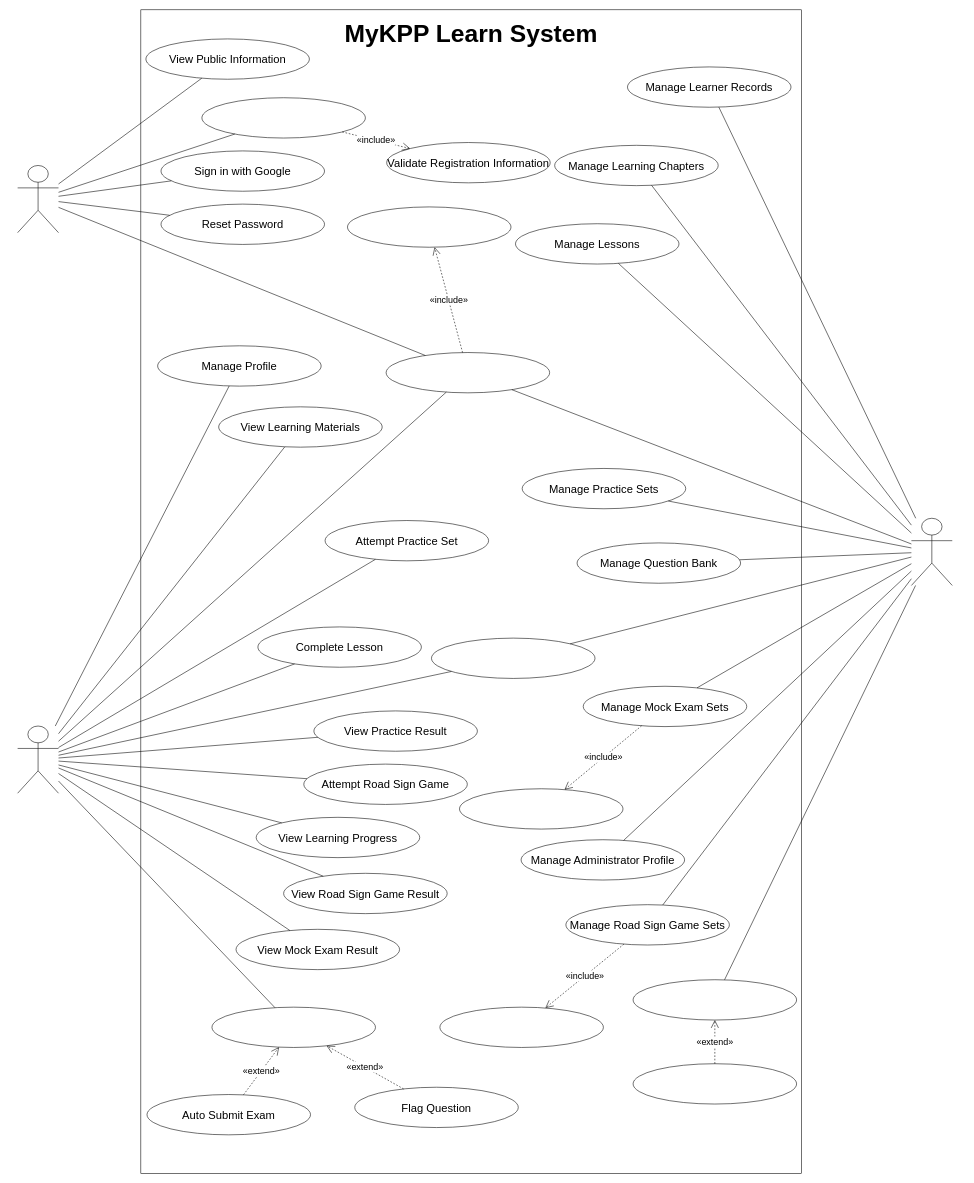
Some shapes in this 974 by 1183 pixel diagram are drawn without their labels. The box of each missing label's shape, as (x1, y1, x2, y2) in pixels:
Administrator: (911, 518, 952, 585)
Attempt Mock Examination: (211, 1007, 375, 1047)
Configure Road Sign Questions: (439, 1007, 603, 1047)
Guest User: (17, 165, 59, 233)
Learner: (17, 725, 59, 793)
Login: (386, 352, 550, 393)
Logout: (431, 638, 595, 678)
Manage Road Sign Assets: (633, 979, 797, 1020)
Register Learner Account: (201, 97, 365, 138)
Select Mock Exam Questions: (459, 788, 623, 829)
Upload Custom Road Sign Asset: (633, 1063, 797, 1104)
Validate Login Credentials: (347, 206, 511, 247)
